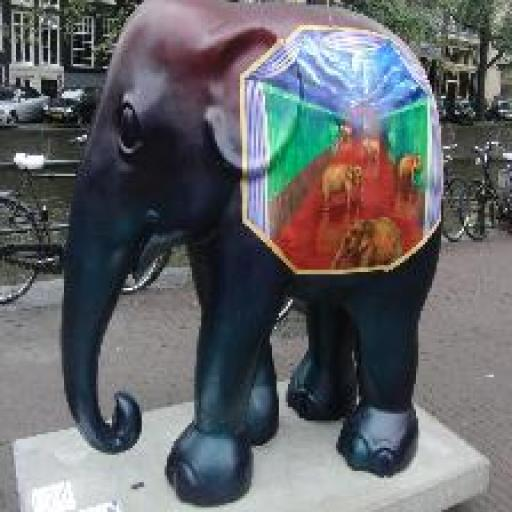Elephant: (57, 0, 444, 505)
